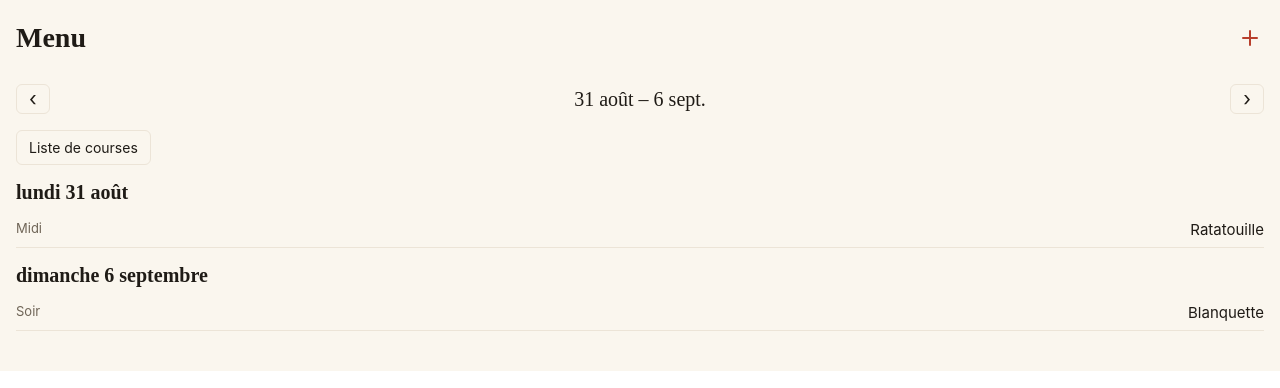
Scenario: MenuContainer — consultation des menus enregistrés › les flèches font défiler les menus enregistrés et se verrouillent à chaque borne
Expected: the text "31 août – 6 sept." is shown, x1=574 y1=88 x2=706 y2=110
Expected: the button named "Menu suivant" is enabled, x1=1230 y1=84 x2=1264 y2=114
Click the button named "Menu précédent": (33, 99) x1=16 y1=84 x2=50 y2=114
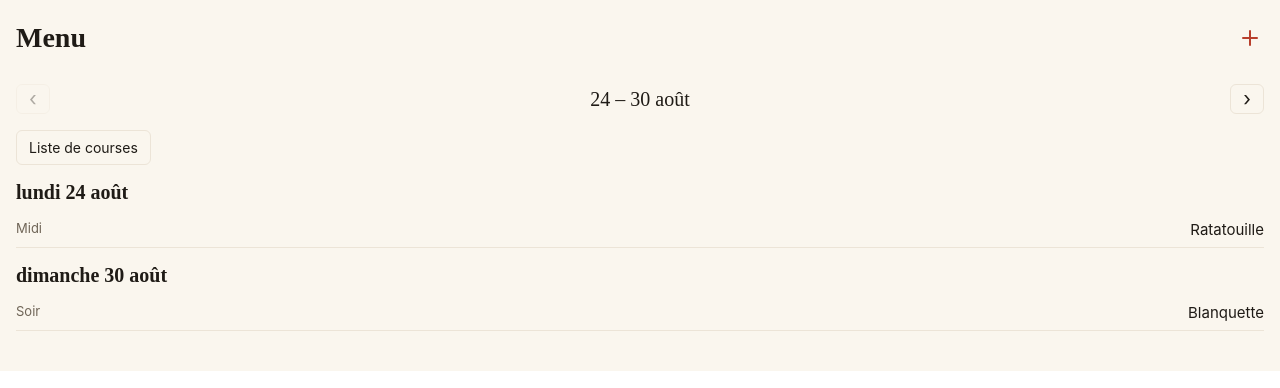
Result: the text "24 – 30 août" is shown at x1=590 y1=88 x2=690 y2=110
Click the button named "Menu suivant": (1247, 99) x1=1230 y1=84 x2=1264 y2=114
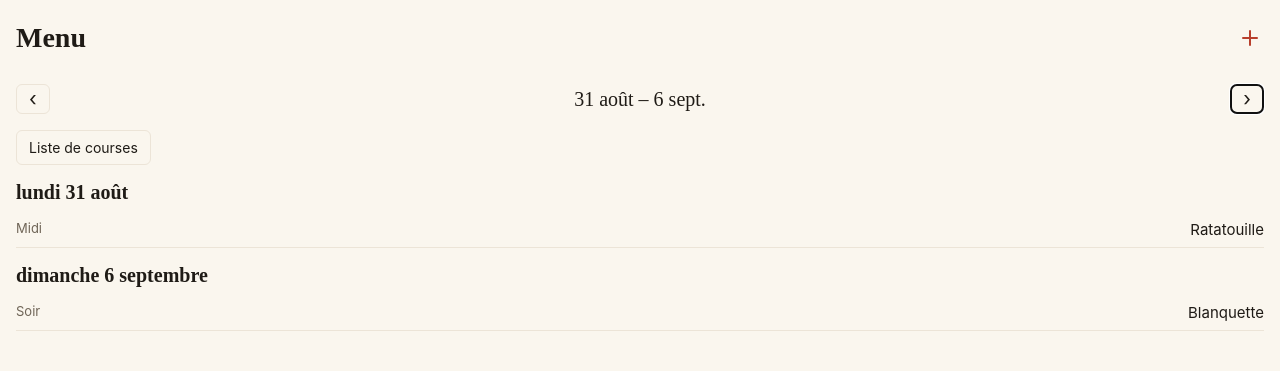
Click the button named "Menu suivant": (1247, 99) x1=1230 y1=84 x2=1264 y2=114
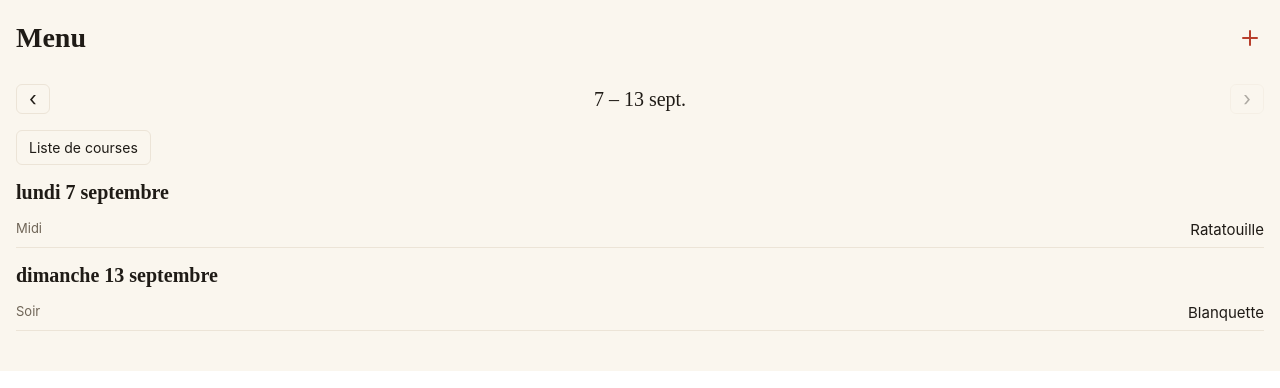
Expected: the button named "Menu précédent" is enabled, x1=16 y1=84 x2=50 y2=114
Result: the text "7 – 13 sept." is shown at x1=594 y1=88 x2=686 y2=110
Result: the button named "Menu suivant" is disabled at x1=1230 y1=84 x2=1264 y2=114
